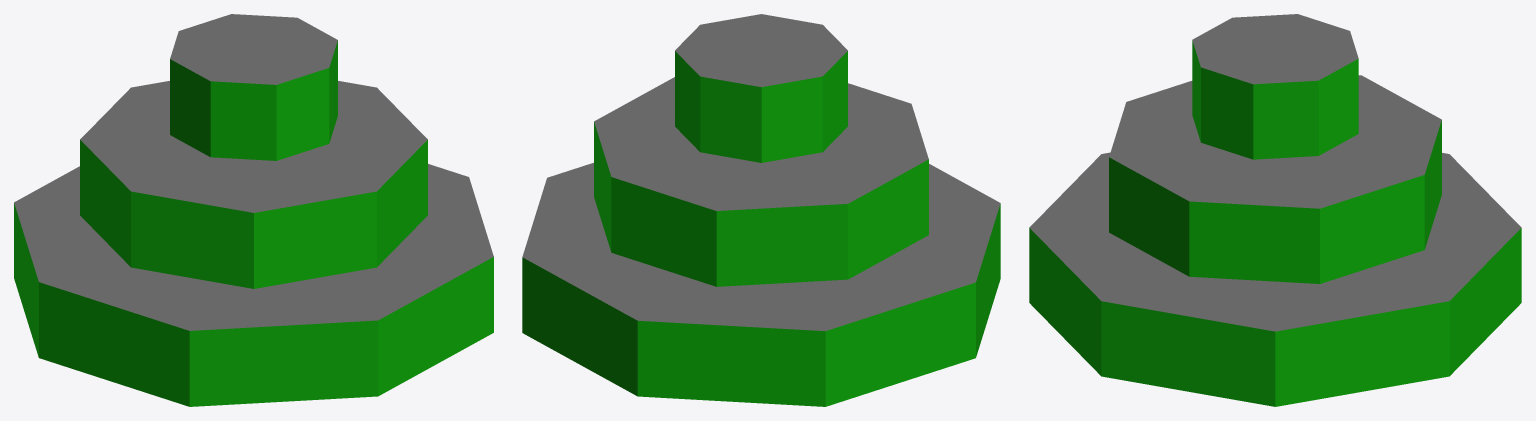
The model's file is weights.gltf.
3 renders of one model, left to right at view 1: azimuth 30°, elevation 25°; view 2: azimuth 150°, elevation 25°; view 3: azimuth 270°, elevation 25°, orthographic.
Visible parts, largest first — view 1: Cylinder, Cylinder.001, Cylinder.002; view 2: Cylinder, Cylinder.001, Cylinder.002; view 3: Cylinder, Cylinder.001, Cylinder.002.
Boxes of the visible parts, bbox=[...] form: Cylinder: bbox=[14, 164, 493, 406]; Cylinder.001: bbox=[80, 81, 427, 288]; Cylinder.002: bbox=[170, 14, 337, 160]; Cylinder: bbox=[522, 162, 1000, 406]; Cylinder.001: bbox=[594, 77, 928, 286]; Cylinder.002: bbox=[675, 14, 847, 162]; Cylinder: bbox=[1029, 152, 1521, 406]; Cylinder.001: bbox=[1109, 75, 1441, 283]; Cylinder.002: bbox=[1192, 14, 1358, 159].
Bounding box in the file's own units: 2 × 1.14 × 2.
